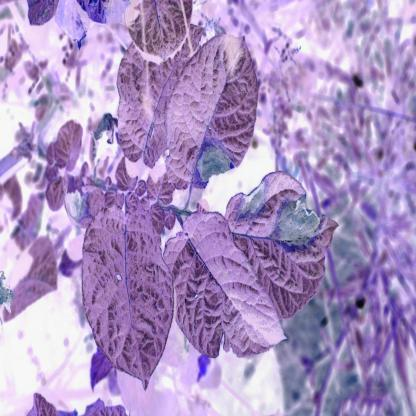Potato leaf: (165, 210, 288, 364), (80, 199, 168, 397), (112, 19, 208, 171)
Potato leaf early blight: (226, 172, 340, 322), (166, 29, 260, 188)
